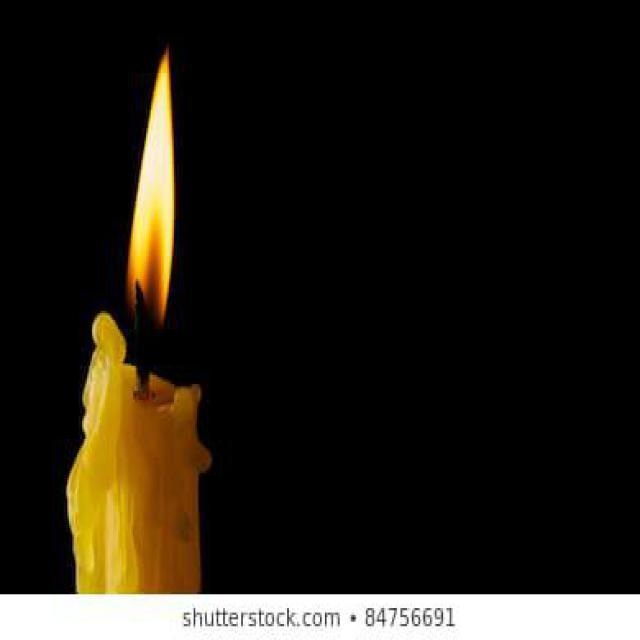Fire: (126, 49, 176, 335)
